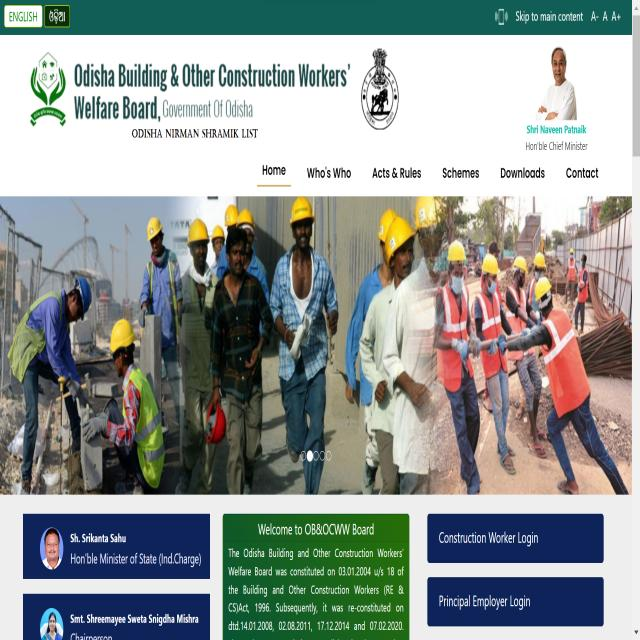Reflective-Jacket: (122, 364, 166, 489), (540, 311, 590, 414), (8, 285, 65, 369), (436, 282, 471, 386), (144, 251, 180, 340), (477, 291, 503, 373), (507, 282, 526, 366), (578, 266, 590, 302), (567, 262, 576, 282)
Safety-Helmet: (380, 210, 416, 258), (108, 316, 136, 356), (413, 194, 441, 230), (39, 605, 68, 638), (75, 273, 94, 321), (288, 194, 316, 226), (187, 215, 210, 246), (447, 239, 467, 264), (146, 215, 164, 242), (236, 206, 257, 229), (481, 253, 500, 276), (535, 276, 552, 299), (550, 44, 568, 62), (224, 203, 238, 226), (212, 223, 225, 242), (513, 255, 527, 272), (533, 252, 547, 268), (568, 248, 575, 256)
